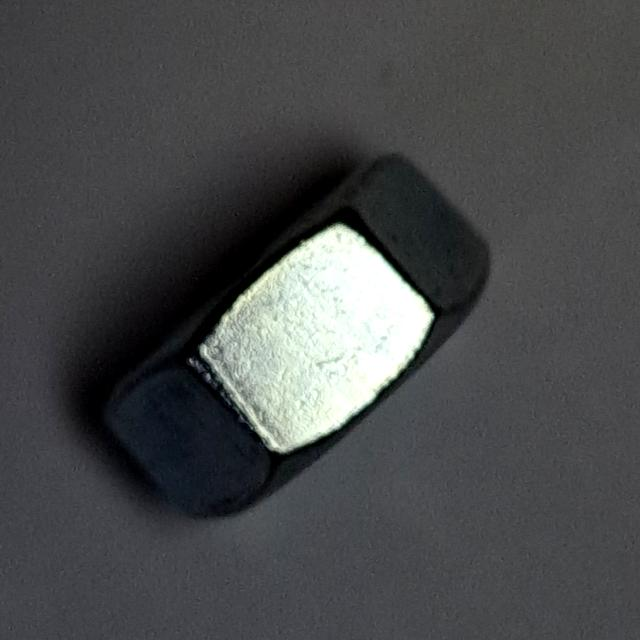Side_Excellent: (90, 134, 504, 544)
